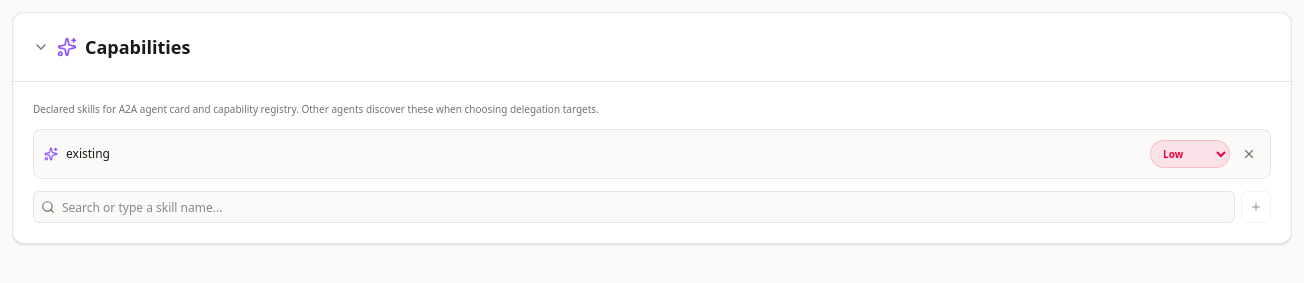
Test: CapabilitiesSection — Editor › shows autocomplete dropdown when typing a matching skill
The width and height of the screenshot is (1304, 283).
Step 1. Type "customer" into the field with test id "skill-autocomplete-input" → [634, 207], box 33,191 -> 1235,223
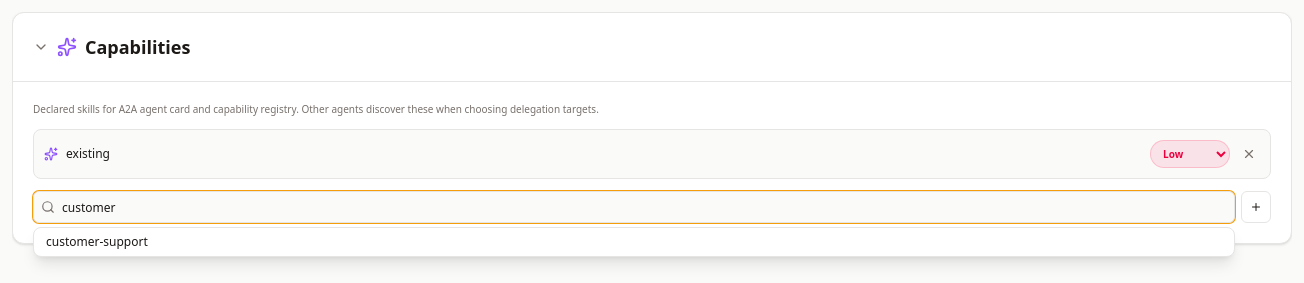
Expected: the element with test id "skill-autocomplete-dropdown" is shown, 33,227 -> 1235,257
